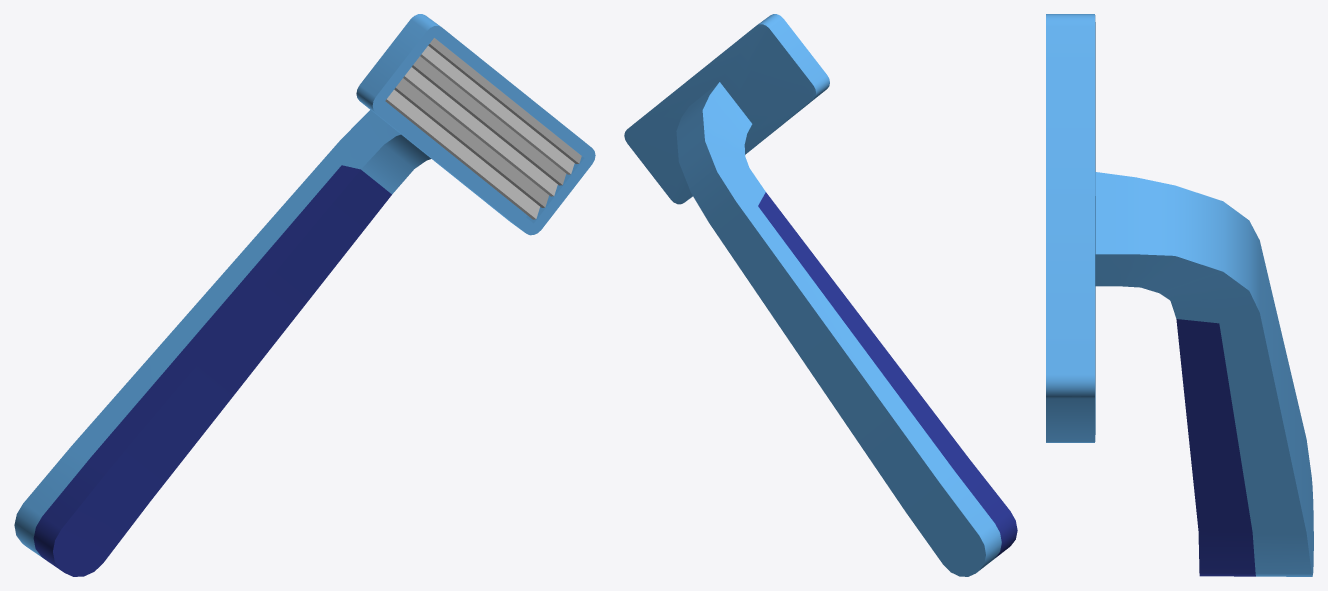
File: razor.gltf
3 views of the same model, side by side, from view 1: azimuth 30°, elevation 25°; view 2: azimuth 150°, elevation 25°; view 3: azimuth 270°, elevation 25° (orthographic). The views are drawn at different scales.
Parts seen in each view (by area): view 1: Cube.1013; view 2: Cube.1013; view 3: Cube.1013.
Part boxes in pixels (x1,y1,x2,y2): Cube.1013: [14, 14, 595, 576]; Cube.1013: [624, 14, 1017, 576]; Cube.1013: [1046, 14, 1313, 576].
Size of the model in its own units: 2.15 by 2.15 by 0.6715.
1 material, 1 textured.
